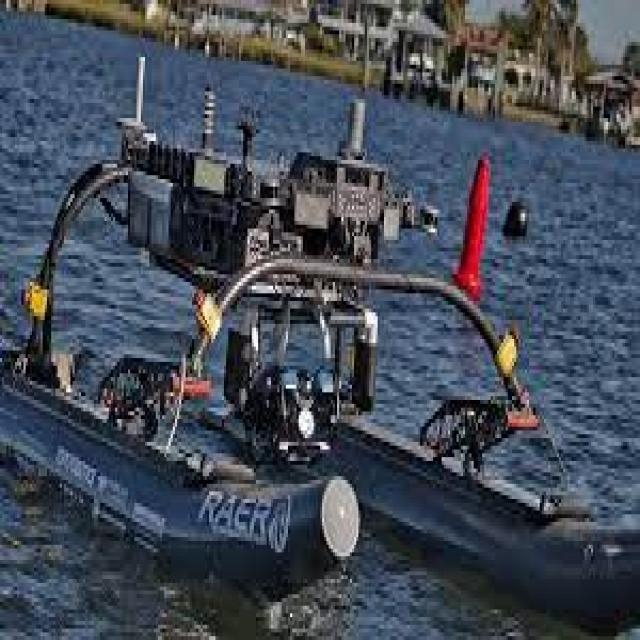Wam_V: (27, 79, 578, 606)
